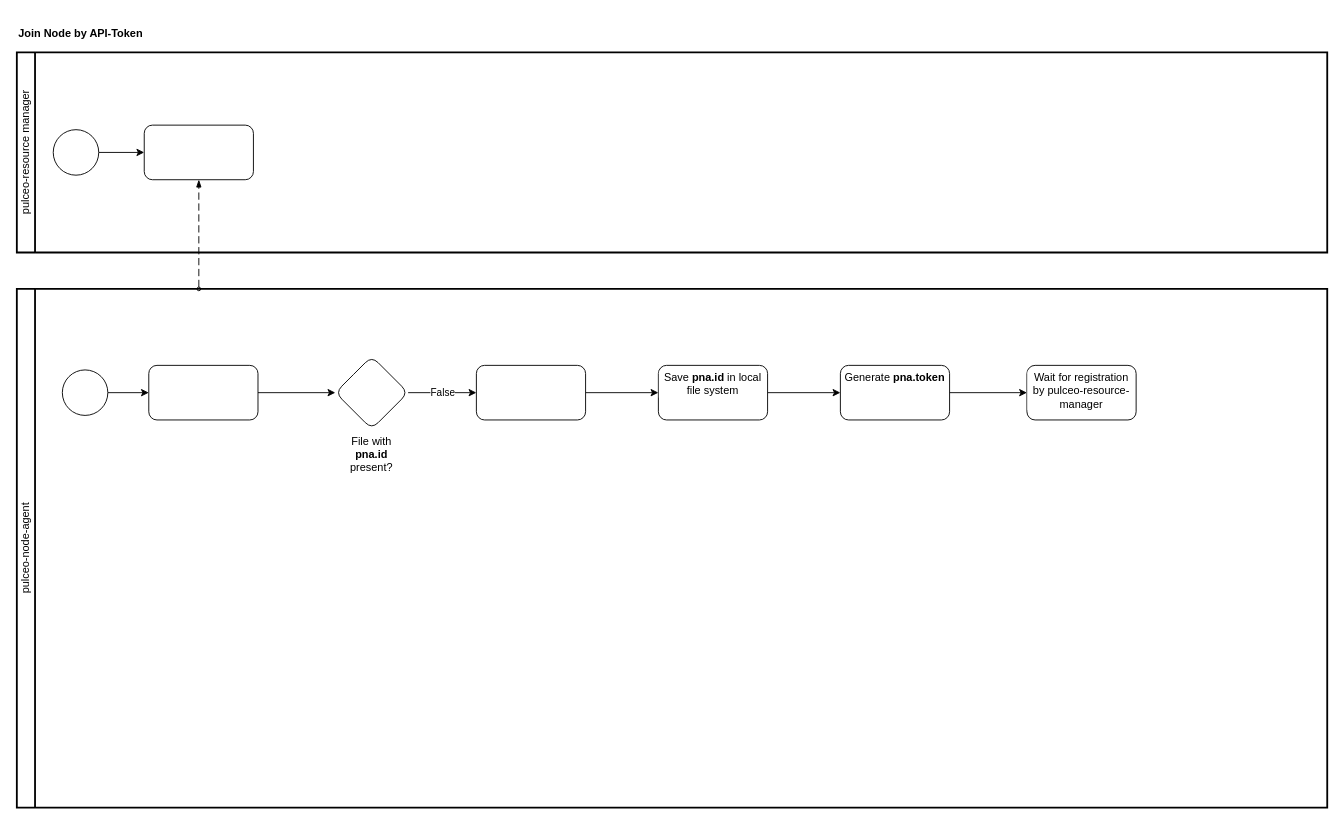
The diagram is 1343 pixels wide and 824 high, and some of its shapes have lost their labels. Here are the shapes that lost their labels. From the top down, the centre of each, then its label:
(198,152): Obtain pna.endpoint , pna.port , and pna.token
(203,392): Run pulceo-node-agent
(530,392): Generate pna.id
